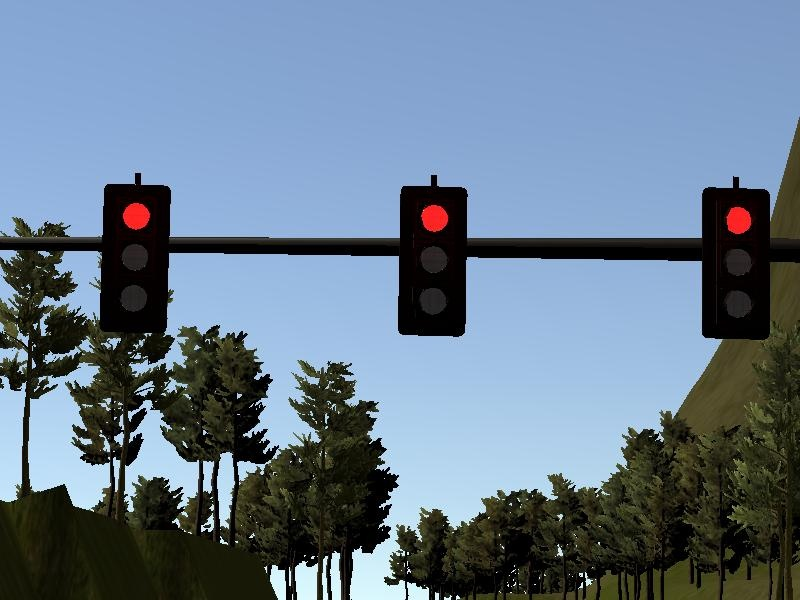RED: (99, 183, 170, 330), (396, 187, 467, 334), (700, 189, 771, 336)
